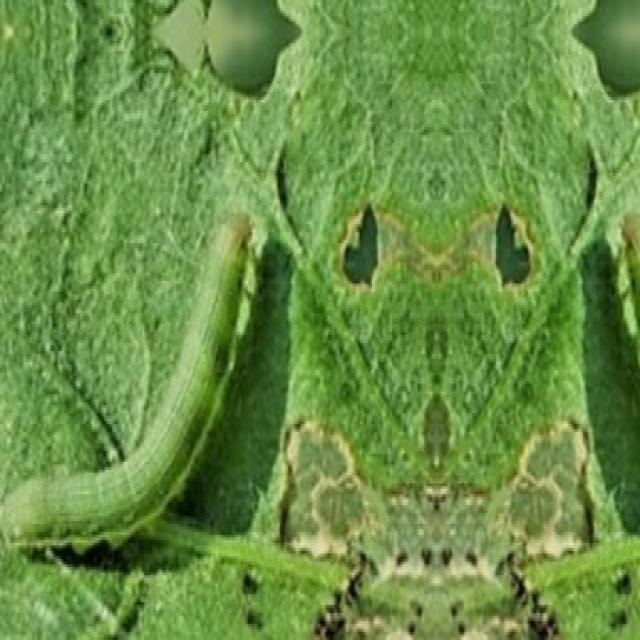armyworm: (0, 208, 255, 556)
